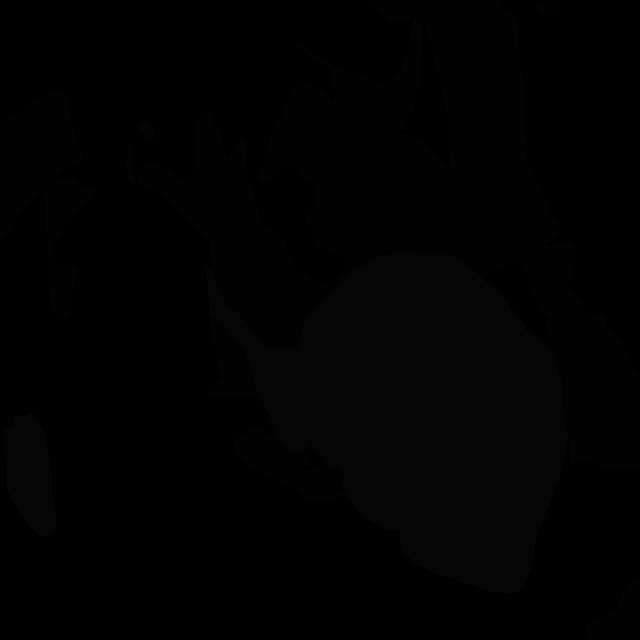cardboard: (135, 80, 516, 349), (419, 0, 576, 332), (540, 286, 640, 468), (297, 0, 423, 137), (0, 90, 83, 241), (231, 427, 348, 502), (44, 179, 95, 322), (204, 333, 258, 399), (585, 576, 640, 640), (210, 318, 234, 340), (535, 0, 562, 19)
metal: (126, 141, 135, 183), (138, 120, 155, 141)
soft_plastic: (206, 252, 568, 593), (3, 413, 56, 537)
